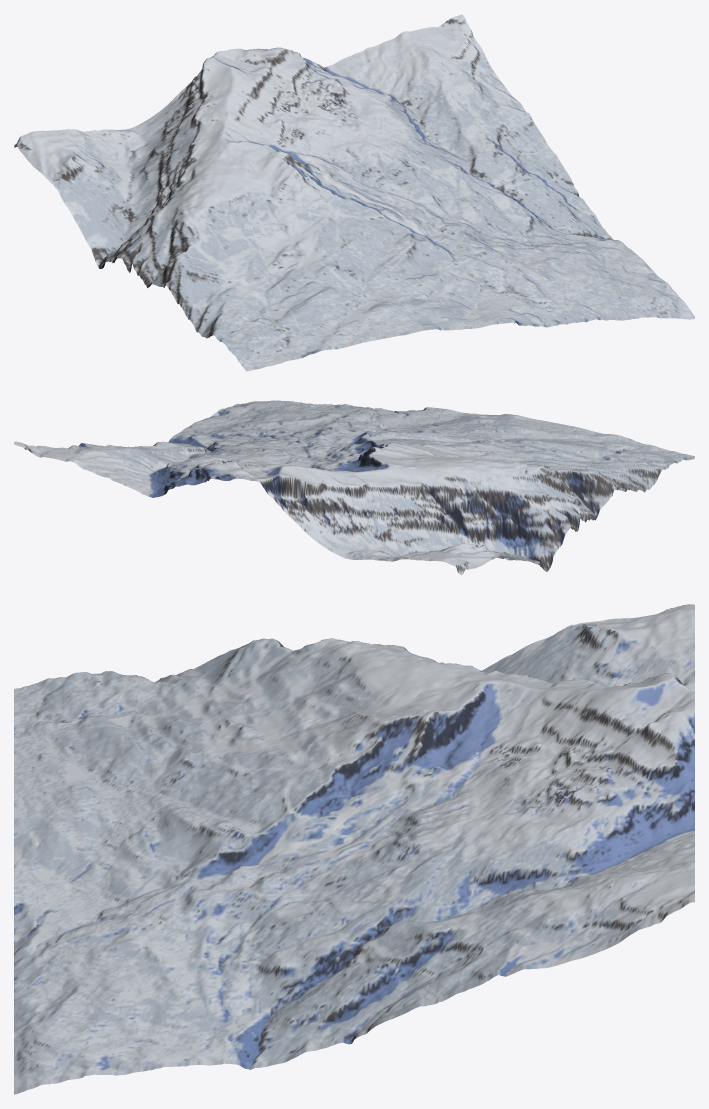
Rendered from terrain_lod1.glb.
3 views of the same model, one above another, from view 1: azimuth 30°, elevation 25°; view 2: azimuth 150°, elevation 25°; view 3: azimuth 270°, elevation 25° (orthographic). The views are drawn at different scales.
Visible parts, largest first — view 1: T1_0_6, T1_0_4, T1_0_2, T1_3_4, T1_4_1, T1_8_2, T1_8_1, T1_0_1, T1_1_5, T1_9_0, T1_2_4, T1_9_3 (+78 smaller); view 2: T1_1_3, T1_0_3, T1_3_0, T1_2_1, T1_2_2, T1_0_4, T1_0_5, T1_1_2, T1_3_1, T1_2_0, T1_4_0, T1_0_7 (+59 smaller); view 3: T1_6_0, T1_4_3, T1_4_4, T1_9_4, T1_9_1, T1_8_5, T1_7_2, T1_5_5, T1_7_3, T1_9_8, T1_9_5, T1_7_1 (+70 smaller).
Part boxes in pixels (x1,y1,x2,y2): T1_0_6: (169,269,239,327); T1_0_4: (117,214,187,280); T1_0_2: (65,199,132,249); T1_3_4: (252,167,322,220); T1_4_1: (219,75,289,122); T1_8_2: (424,96,494,146); T1_8_1: (398,59,468,111); T1_0_1: (40,155,110,204); T1_1_5: (188,226,258,268); T1_9_0: (417,14,487,61); T1_2_4: (207,181,277,225); T1_9_3: (495,131,565,175); T1_1_3: (450,465,519,548); T1_0_3: (495,490,565,571); T1_3_0: (283,476,353,548); T1_2_1: (353,485,423,554); T1_2_2: (379,466,449,532); T1_0_4: (521,468,591,534); T1_0_5: (547,468,617,520); T1_1_2: (424,491,494,550); T1_3_1: (309,469,378,519); T1_2_0: (327,520,397,559); T1_4_0: (238,465,308,509); T1_0_7: (600,454,668,492); T1_6_0: (619,751,694,836); T1_4_3: (392,715,467,795); T1_4_4: (316,729,392,805); T1_9_4: (316,965,392,1050); T1_9_1: (543,889,619,968); T1_8_5: (241,942,316,1016); T1_7_2: (468,834,543,913); T1_5_5: (241,799,316,869); T1_7_3: (392,856,467,924); T1_9_8: (14,1025,89,1094); T1_9_5: (241,994,316,1069); T1_7_1: (543,825,619,889).
Bounding box in the file's own units: 5120 × 1737 × 4608.
